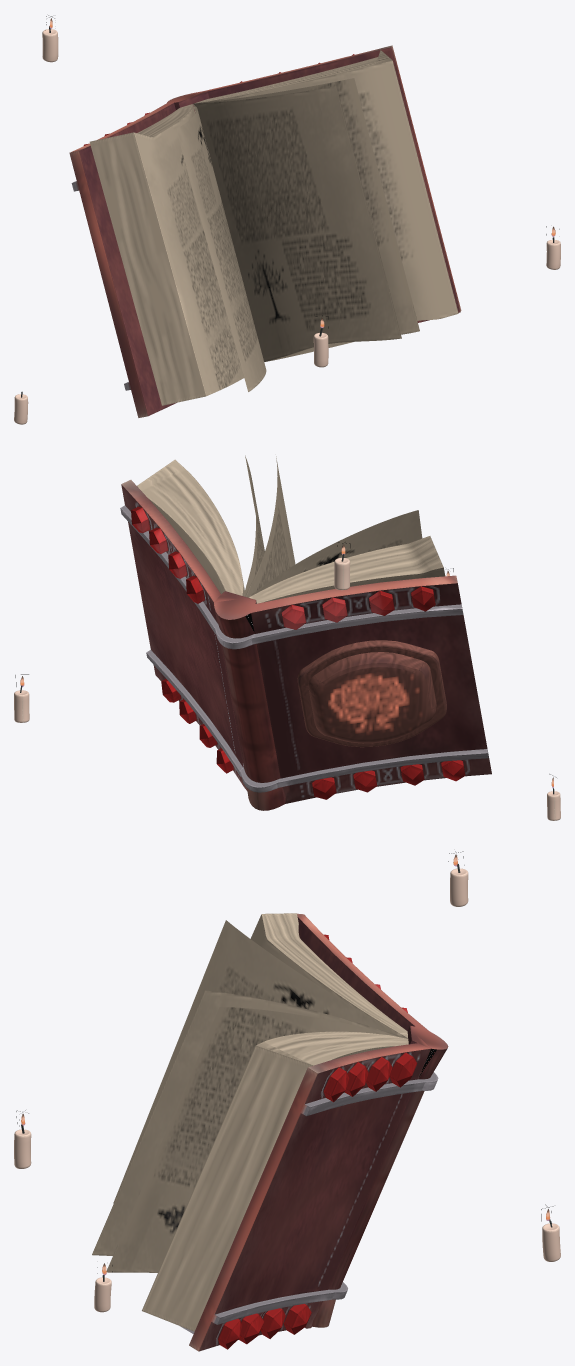
File: a_book.glb
3 renders of one model, top to bottom at view 1: azimuth 30°, elevation 25°; view 2: azimuth 150°, elevation 25°; view 3: azimuth 270°, elevation 25°, orthographic. The views are drawn at different scales.
Visible parts, largest first — view 1: bake.003_4; view 2: bake.003_4, bake.001_1; view 3: bake.003_4, bake.001_1.
Boxes of the visible parts, x1=… form: bake.003_4: x1=14, y1=15, x2=560, y2=424; bake.003_4: x1=14, y1=455, x2=560, y2=820; bake.001_1: x1=131, y1=506, x2=465, y2=799; bake.003_4: x1=14, y1=851, x2=560, y2=1351; bake.001_1: x1=218, y1=934, x2=417, y2=1349.
Bounding box in the file's own units: 0.887 × 0.5982 × 0.7541.
Materials: 1 (1 with a texture image).
